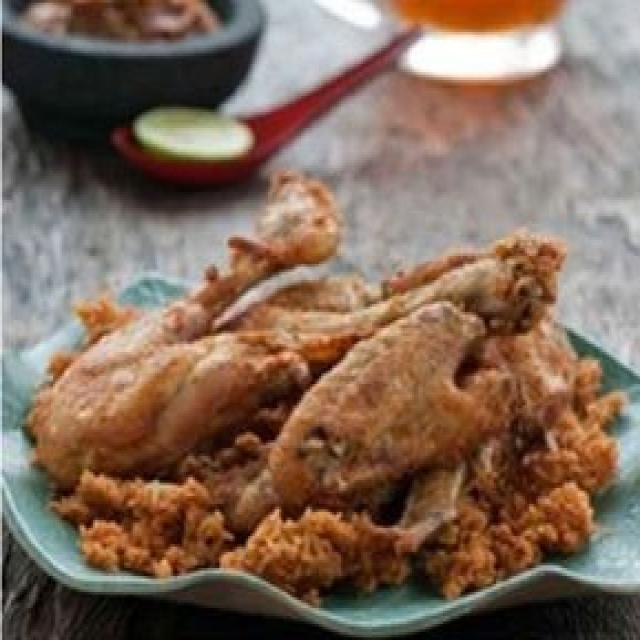Frango: (230, 232, 576, 531), (29, 168, 341, 499)
